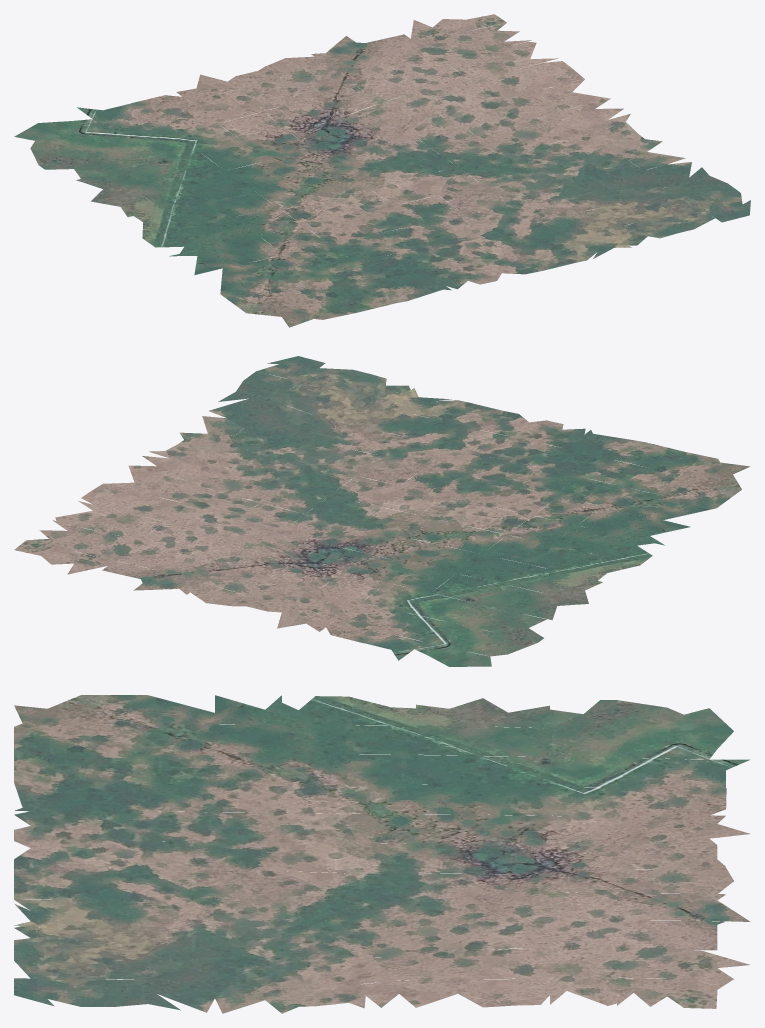
The picture shows the model from 3 angles, top to bottom: view 1: azimuth 30°, elevation 25°; view 2: azimuth 150°, elevation 25°; view 3: azimuth 270°, elevation 25°; orthographic projection. The views are drawn at different scales.
Visible parts, largest first — view 1: 31405041737263517060, 31405041737263516171; view 2: 31405041737263517060, 31405041737263516171; view 3: 31405041737263517060, 31405041737263516171.
Boxes of the visible parts, x1,y1,x2,y2 form: 31405041737263517060: [38, 14, 750, 319]; 31405041737263516171: [14, 123, 313, 327]; 31405041737263517060: [14, 356, 719, 666]; 31405041737263516171: [449, 462, 750, 666]; 31405041737263517060: [14, 723, 750, 1013]; 31405041737263516171: [14, 695, 733, 731].
Bounding box in the file's own units: 210 × 3.71 × 210.
36 materials, 36 textured.
